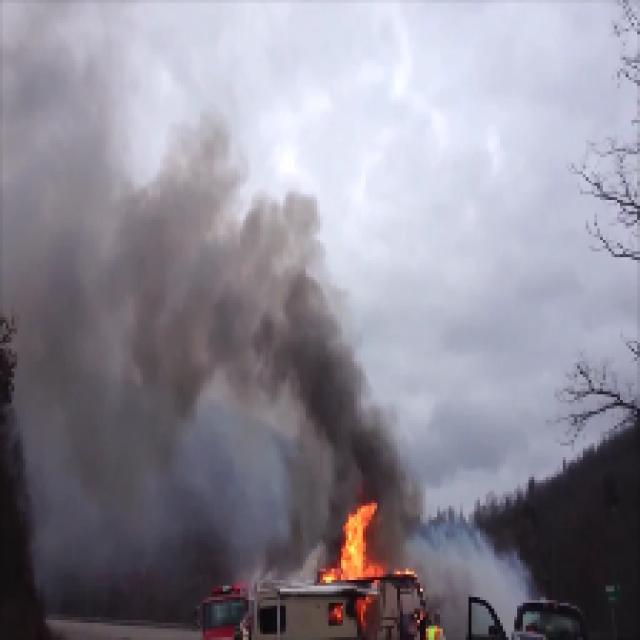fire: (332, 504, 372, 575)
smoke: (183, 246, 296, 384), (296, 348, 381, 502)
